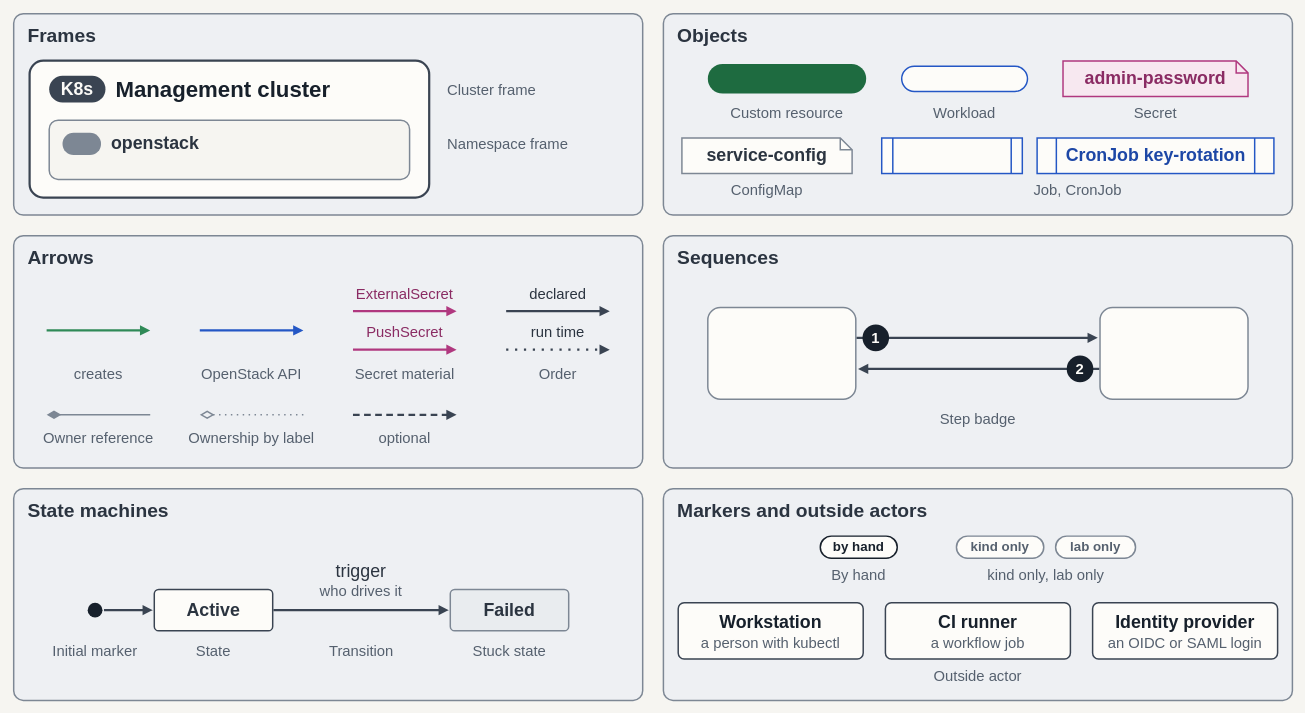
The diagram is 1305 pixels wide and 713 high, and some of its shapes have lost their labels. Each missing label, with the box of its shape:
ControlPlane CR: (707, 64, 866, 93)
Deployment: (901, 65, 1028, 92)
Job db-sync: (881, 137, 1023, 174)
ns: (62, 132, 101, 155)
Operator: (707, 306, 856, 400)
Service: (1099, 306, 1248, 400)
